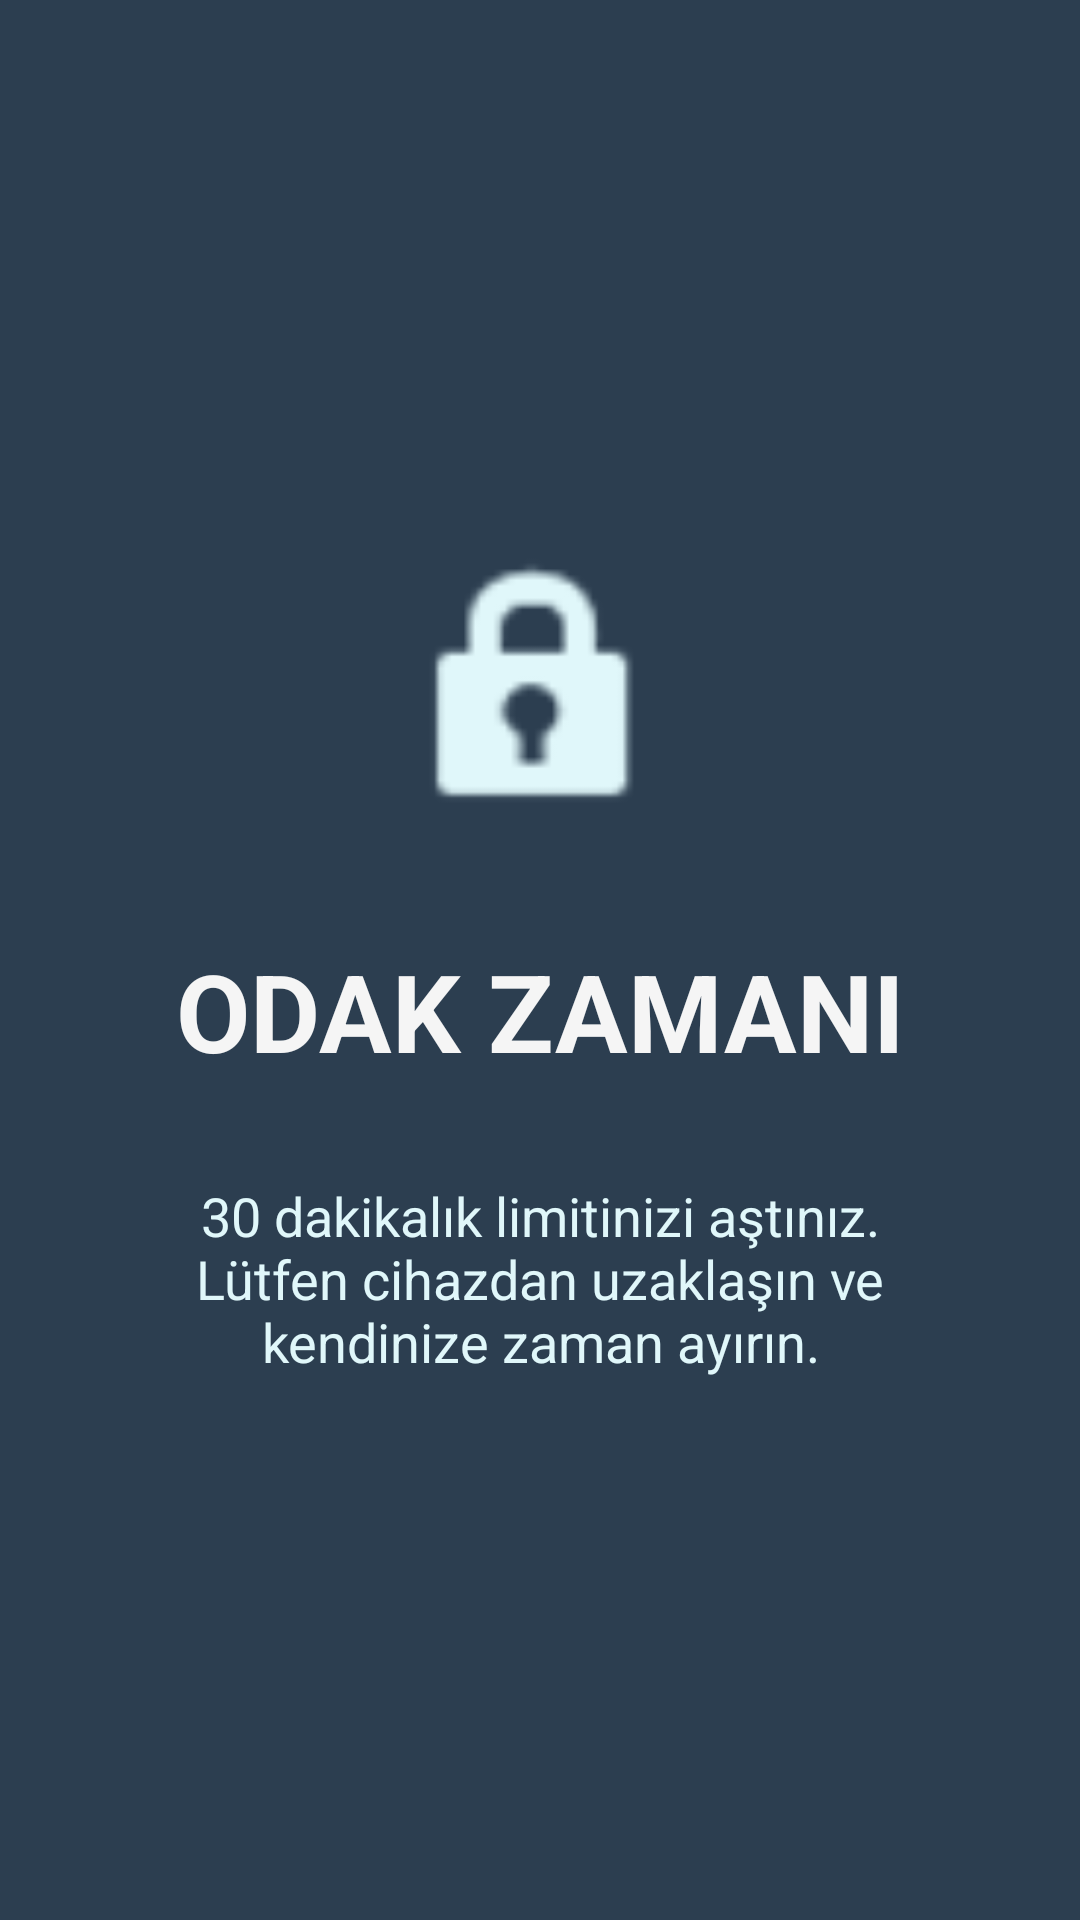

Icon bounding boxes for this 1080 x 1920 phone screenshot, format (x1, y1, x2, y2):
lock idle: (435, 568, 631, 797)
